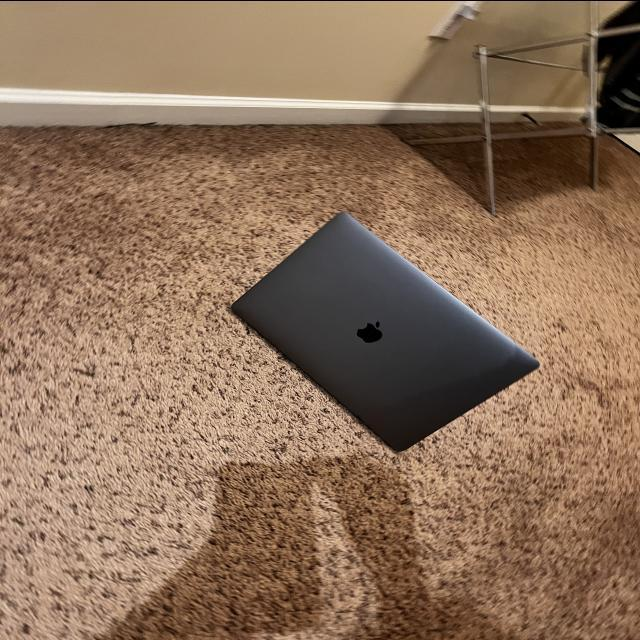laptop: (229, 210, 540, 453)
